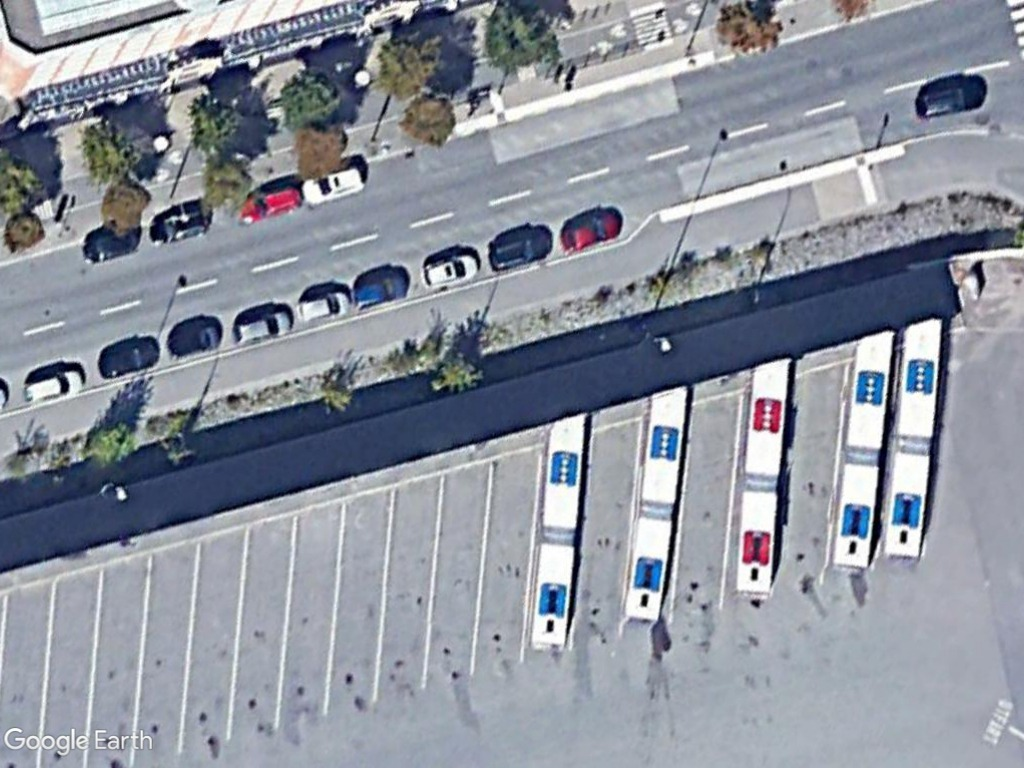bus: (613, 381, 699, 634), (870, 312, 946, 568), (827, 328, 900, 577), (526, 408, 596, 660), (728, 353, 798, 603)
car: (296, 156, 375, 213), (906, 74, 992, 121), (484, 220, 559, 273), (556, 203, 626, 257), (225, 302, 299, 352), (345, 265, 417, 316), (15, 361, 88, 411), (96, 332, 164, 384), (417, 243, 484, 295), (294, 286, 357, 329)
